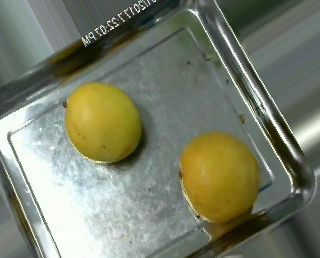Mango: (177, 128, 261, 227), (63, 79, 146, 162)
